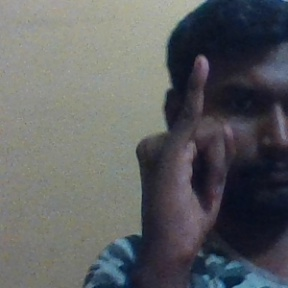I: (135, 54, 233, 239)
